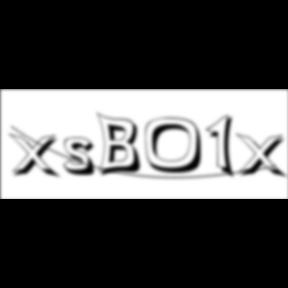1: (206, 114, 240, 182)
B: (97, 111, 147, 179)
O: (146, 117, 210, 176)
s: (64, 137, 102, 179)
x: (9, 132, 64, 181)
